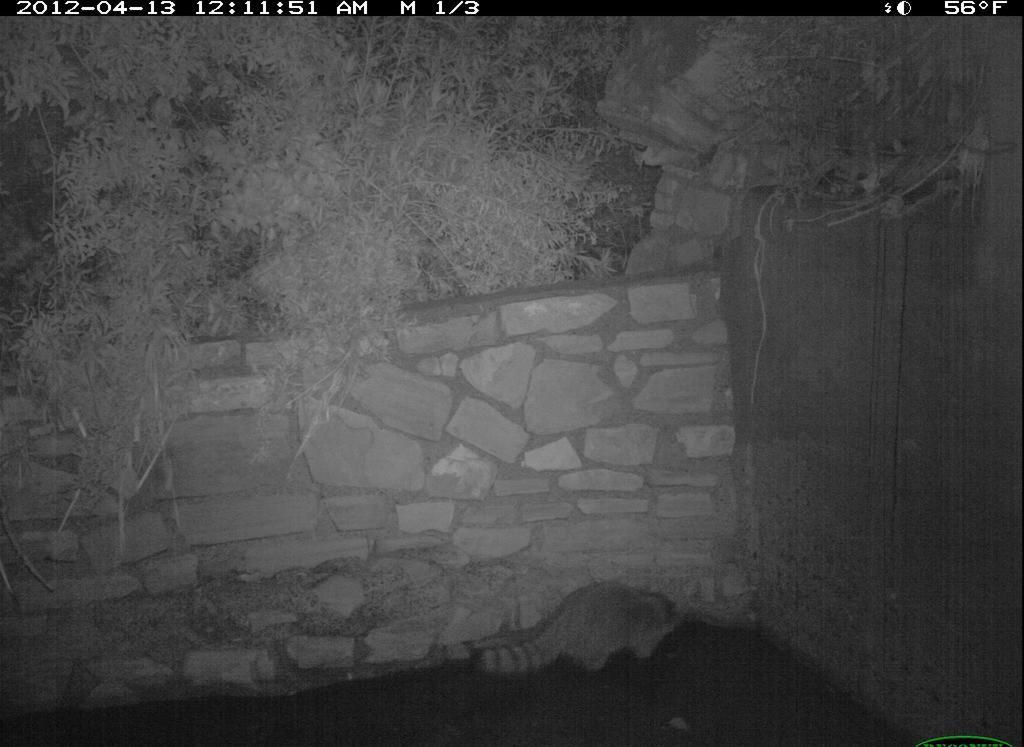raccoon: (468, 580, 688, 681)
